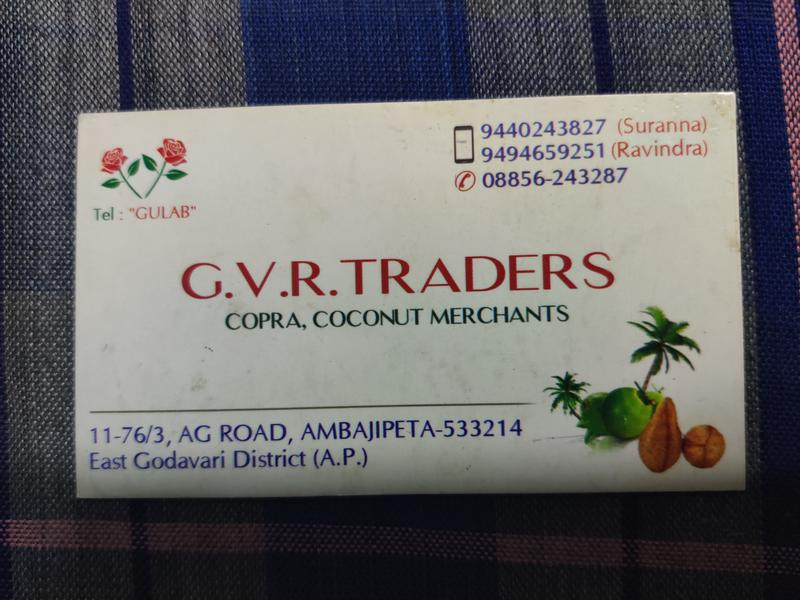card: (71, 90, 751, 502)
